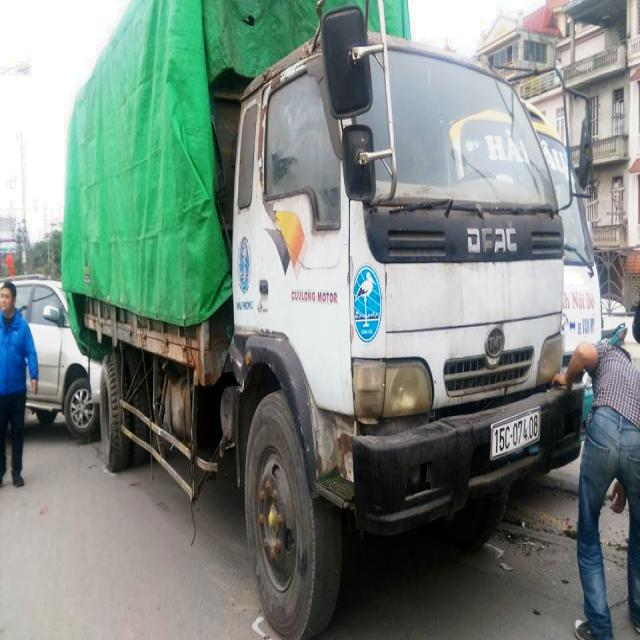license_plate: (492, 408, 541, 460)
